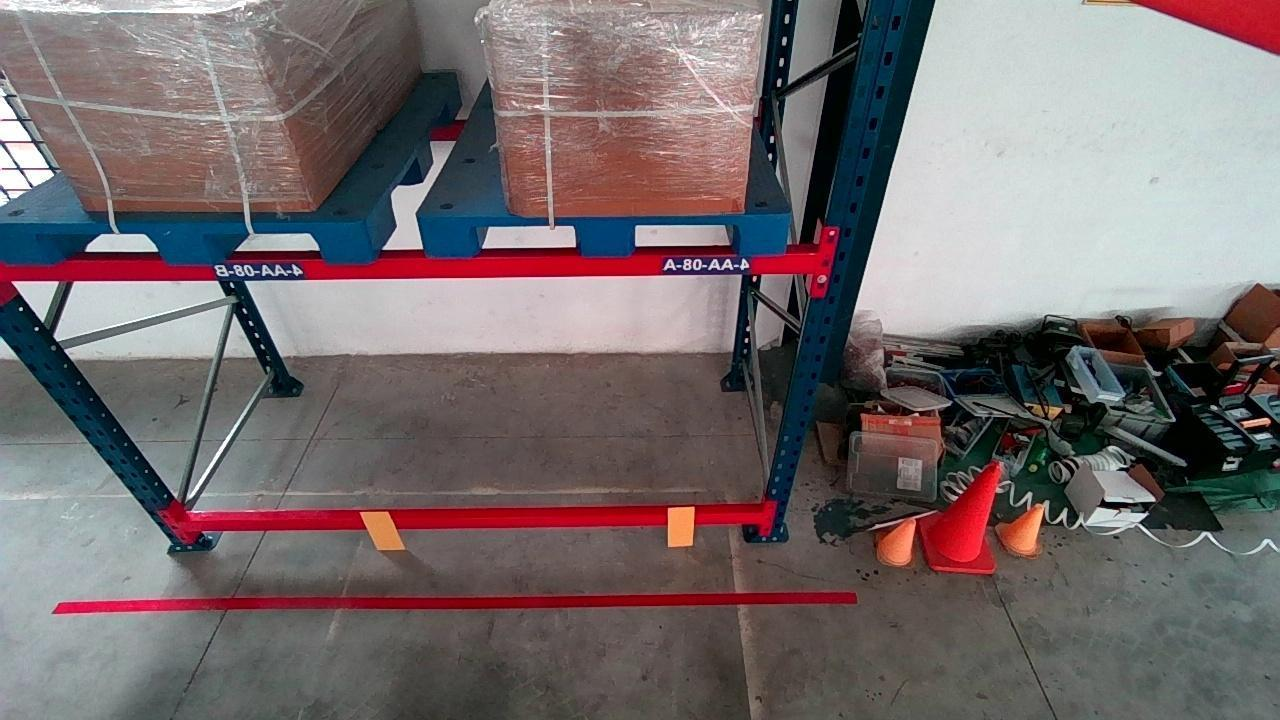h_rack: (183, 508, 762, 536)
orange_strip: (362, 509, 404, 550), (666, 504, 697, 546)
red_line: (50, 588, 860, 613)
small_pallet: (10, 218, 369, 265), (428, 213, 790, 255)
